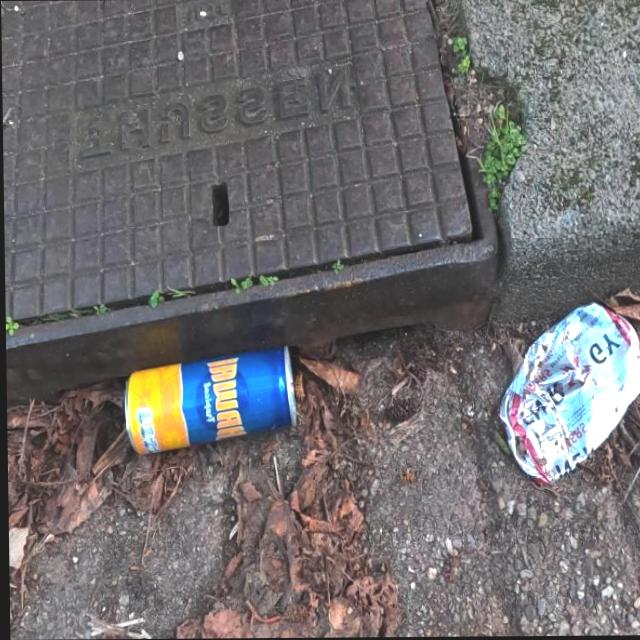Can-Metal: (493, 298, 640, 490), (120, 340, 297, 458)
